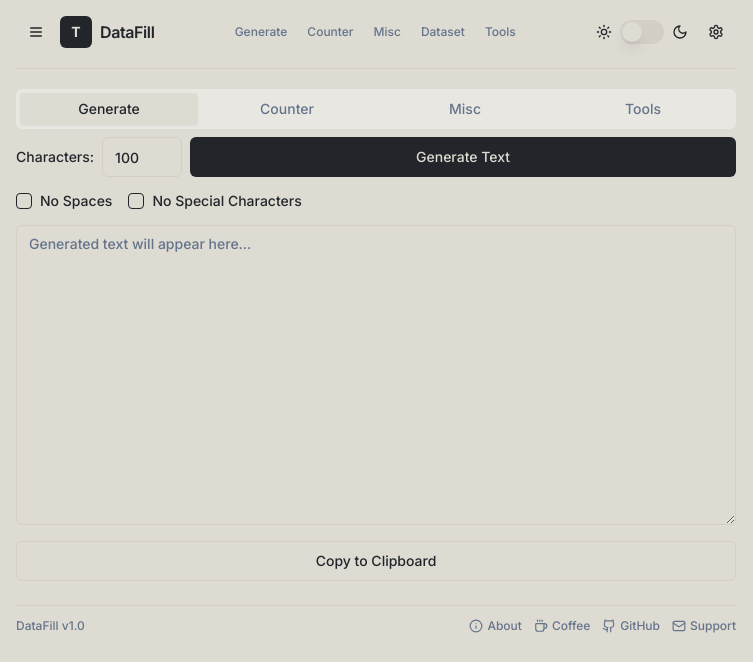
DataFillUI tab navigation › opens the Misc generator from the header nav and syncs the URL
Click the button "Misc": (387, 32) [366,20,409,44]
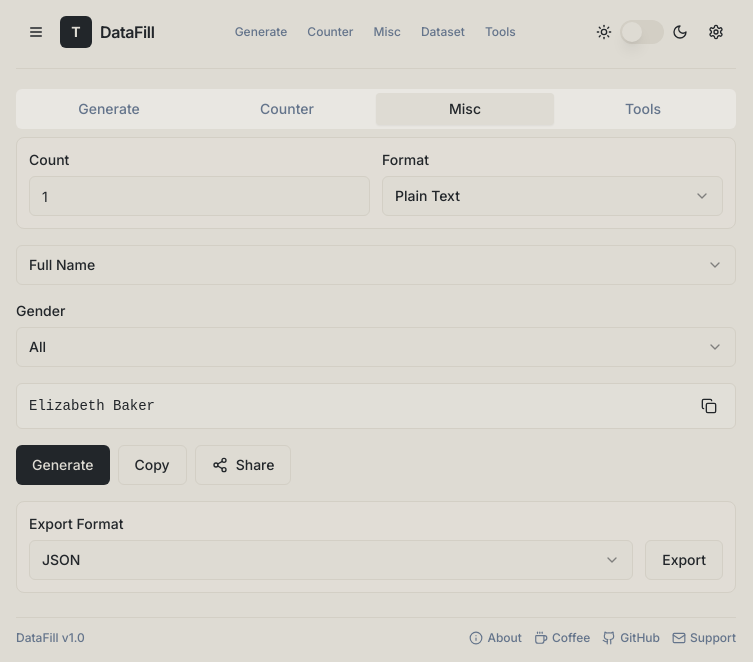
Expected: the number field is shown, [29,176,370,216]
Expected: the label labelled "Characters:" is gone
